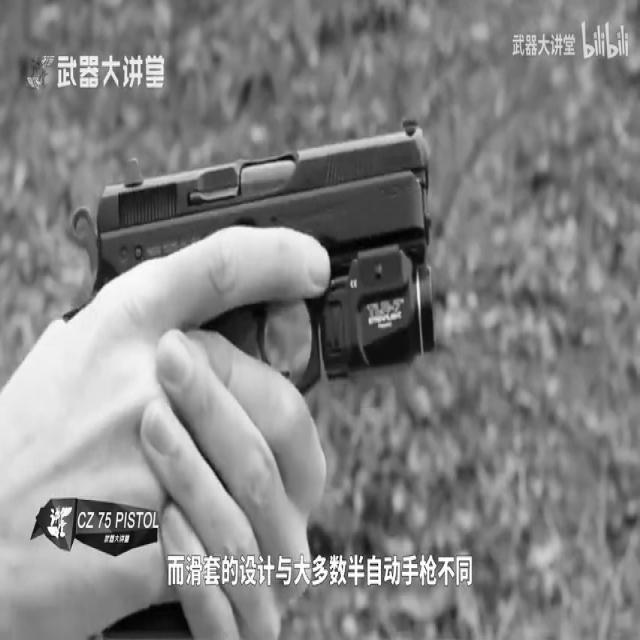Hand-Gun: (86, 99, 430, 365)
